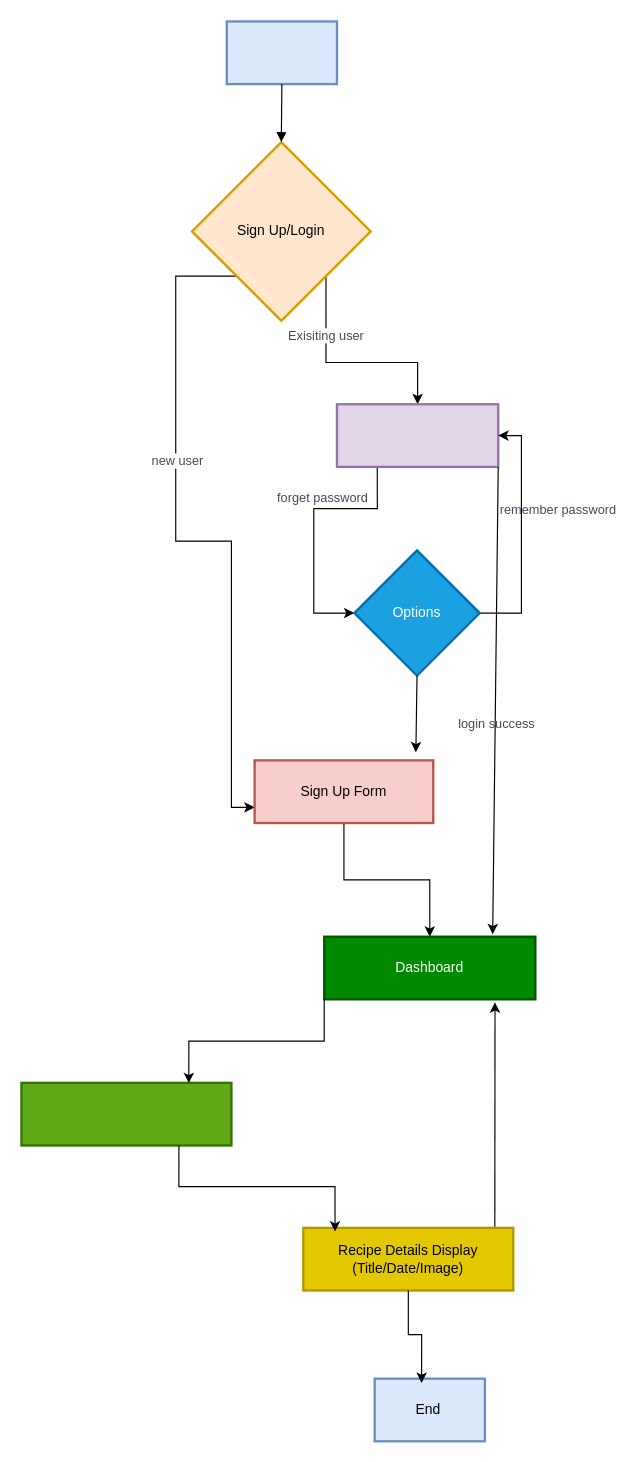
Image size: 639x1462. Some labels were removed from this diagram. Here are the shapes that lost their labels. From the top down, the box of each, then its label:
(225, 20, 338, 85): Start
(335, 403, 499, 467): Login Form
(20, 1081, 232, 1146): Add Recipe Form
